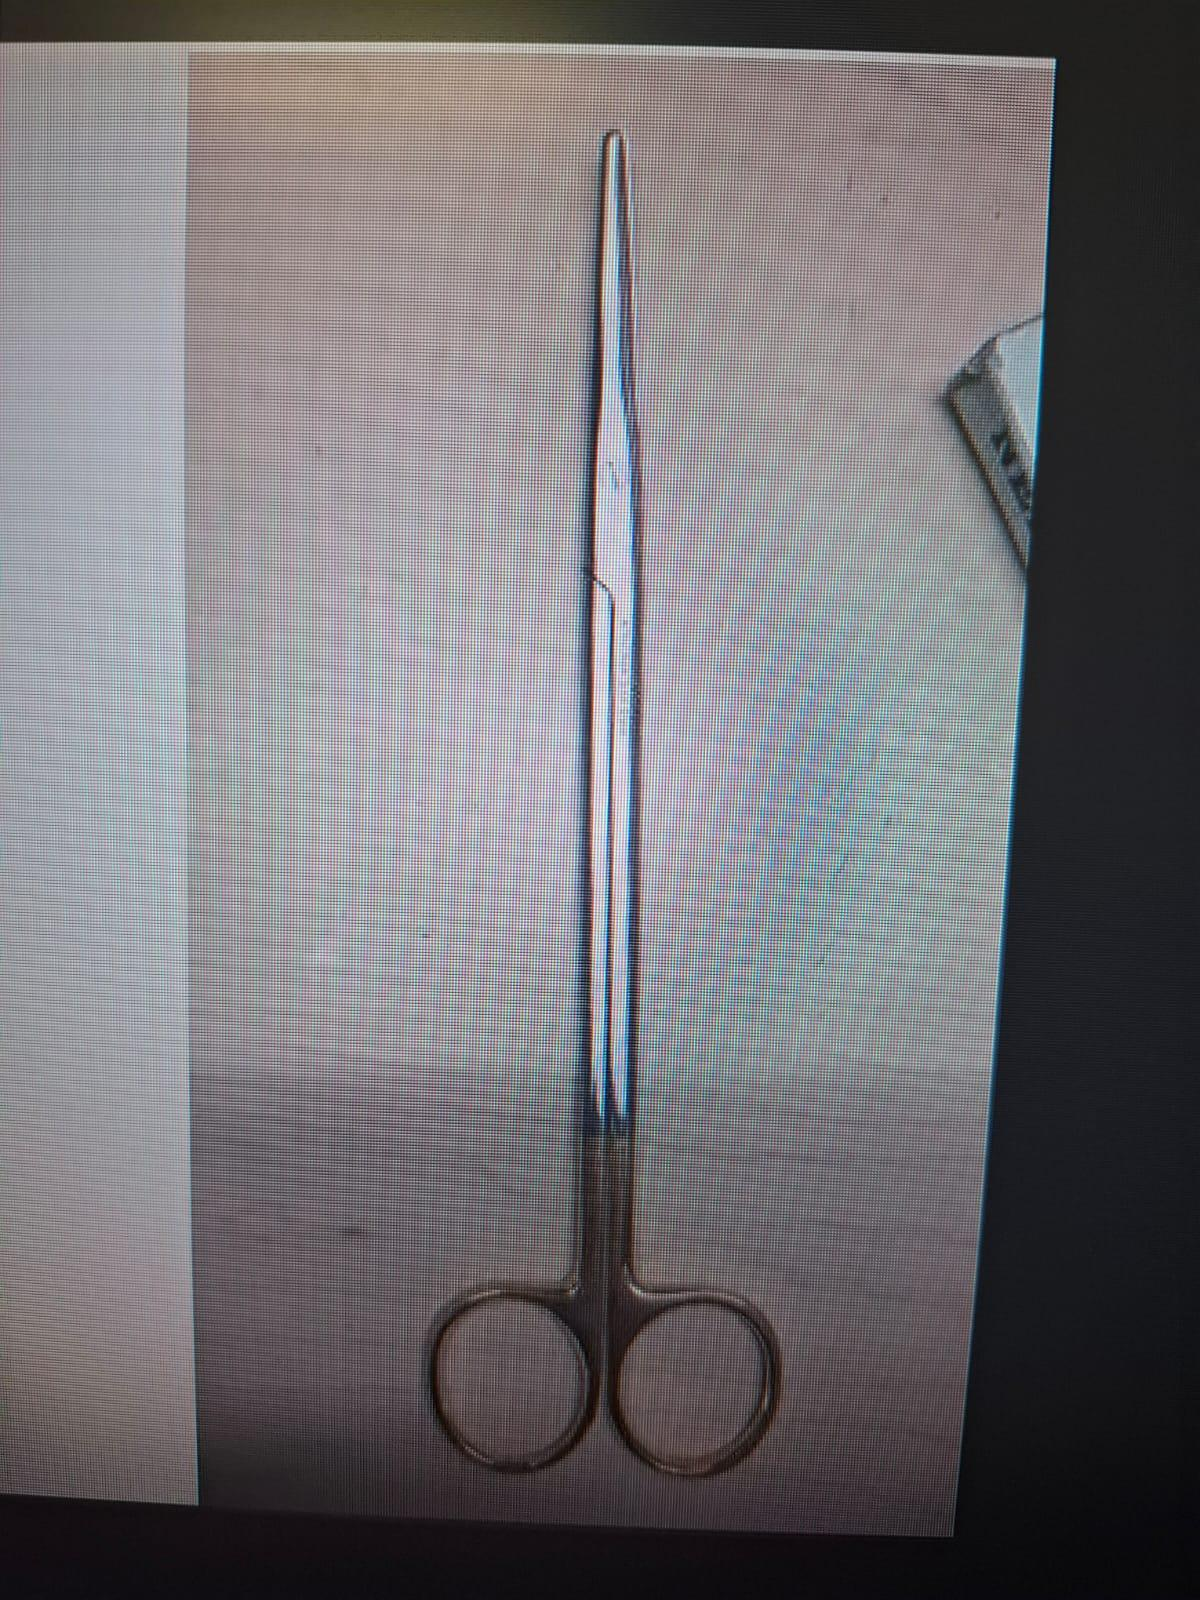Metzenbaum Sciccors: (412, 125, 807, 1475)
